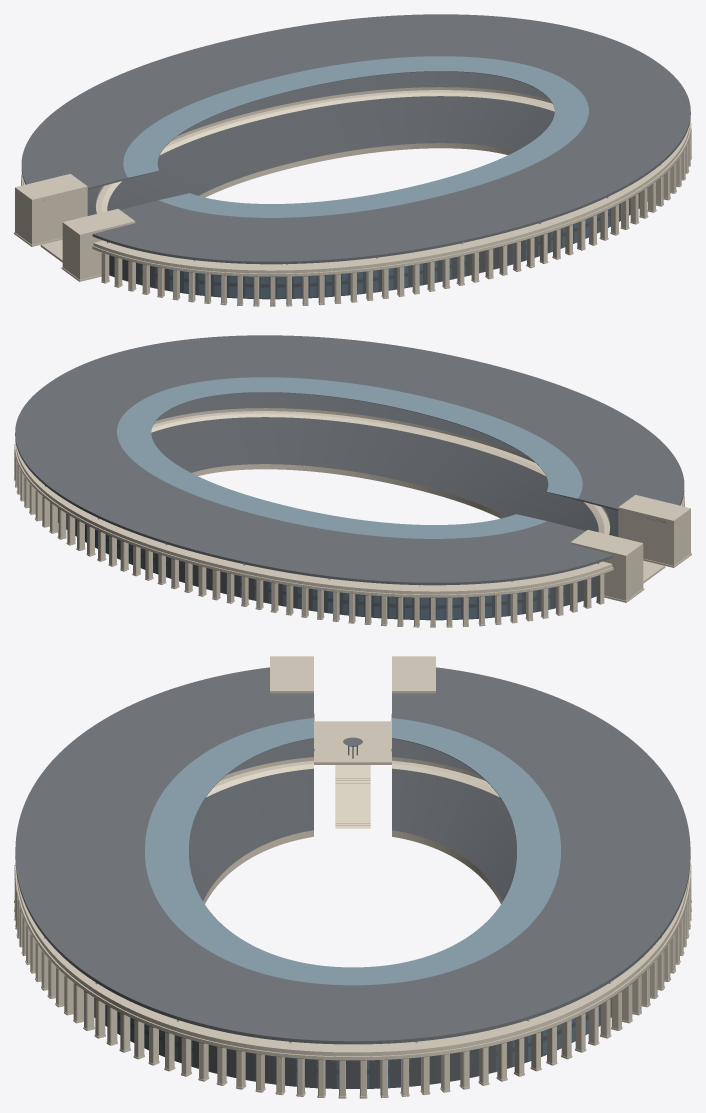
File: berlin-olympiastadion.detail.glb
3 views of the same model, one above another, from view 1: azimuth 30°, elevation 25°; view 2: azimuth 150°, elevation 25°; view 3: azimuth 270°, elevation 25° (orthographic). The views are drawn at different scales.
Parts seen in each view (by area): view 1: Olympiastadion Berlin; view 2: Olympiastadion Berlin; view 3: Olympiastadion Berlin.
Part boxes in pixels (x1=…): Olympiastadion Berlin: x1=14, y1=14, x2=691, y2=306; Olympiastadion Berlin: x1=14, y1=335, x2=691, y2=627; Olympiastadion Berlin: x1=14, y1=656, x2=691, y2=1098.
Size of the model in its own units: 309 by 37.1 by 231.
